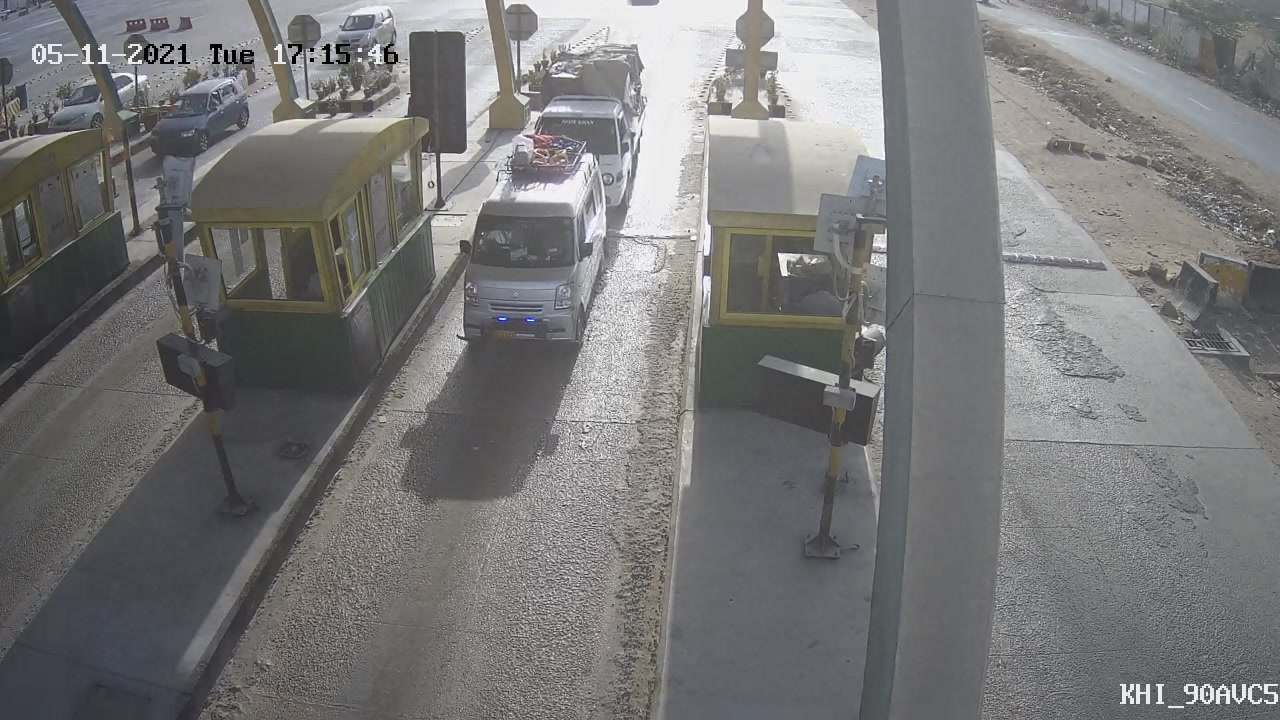F1: (447, 129, 627, 370)
